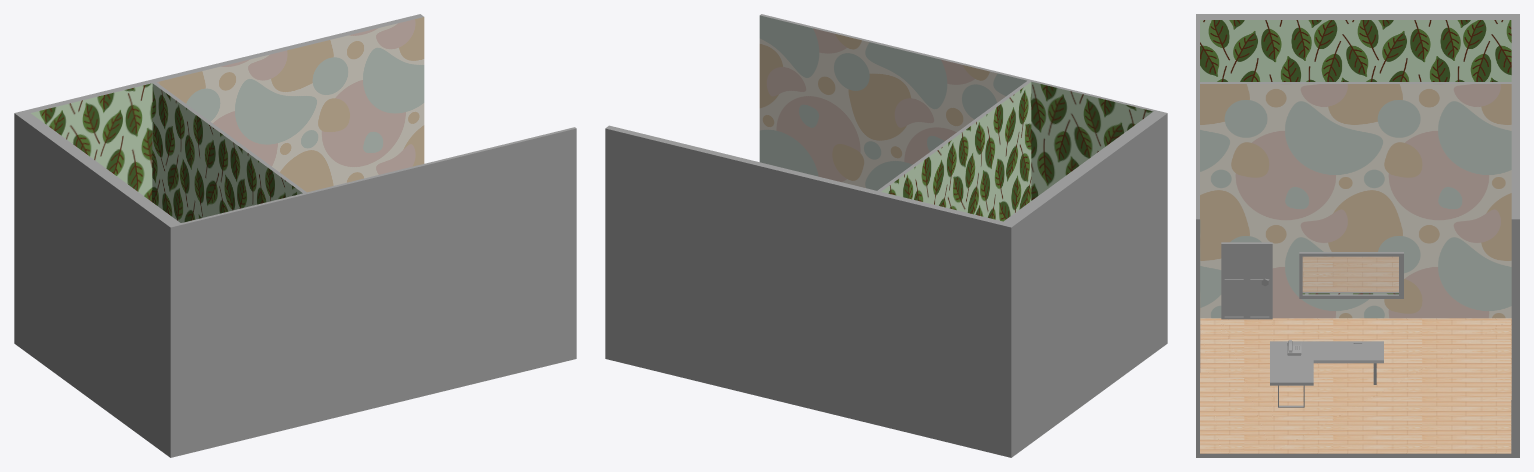
Rendered from Offeac.fbx.
The picture shows the model from 3 angles, left to right: view 1: azimuth 30°, elevation 25°; view 2: azimuth 150°, elevation 25°; view 3: azimuth 270°, elevation 25°; orthographic projection. The views are drawn at different scales.
Visible parts, largest first — view 1: RoomWalls; view 2: RoomWalls; view 3: RoomWalls, Door, Desk.
Part boxes in pixels (x1=…): RoomWalls: x1=14, y1=14, x2=576, y2=457; RoomWalls: x1=605, y1=14, x2=1167, y2=457; RoomWalls: x1=1196, y1=14, x2=1519, y2=457; Door: x1=1221, y1=242, x2=1272, y2=319; Desk: x1=1270, y1=341, x2=1383, y2=407.
Bounding box in the file's own units: 13.77 × 7.47 × 9.18.
Materials: 6 (3 with a texture image).
